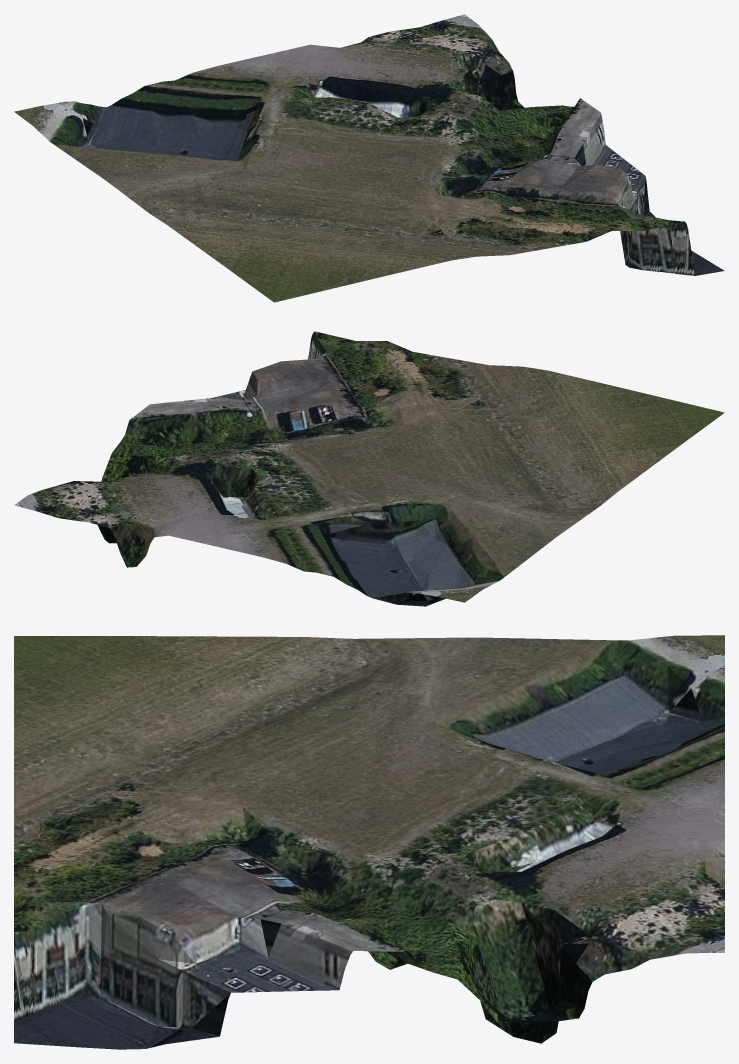
The model's file is map_15_8181_13789.dae.
3 renders of one model, top to bottom at view 1: azimuth 30°, elevation 25°; view 2: azimuth 150°, elevation 25°; view 3: azimuth 270°, elevation 25°, orthographic. The views are drawn at different scales.
Visible parts, largest first — view 1: Ter0; view 2: Ter0; view 3: Ter0.
Part boxes in pixels (box(x1,y1,x2,y2)): Ter0: box(14, 14, 724, 302); Ter0: box(14, 331, 724, 606); Ter0: box(14, 635, 724, 1049).
Size of the model in its own units: 63.87 by 63.88 by 12.41.
Materials: 3 (3 with a texture image).
